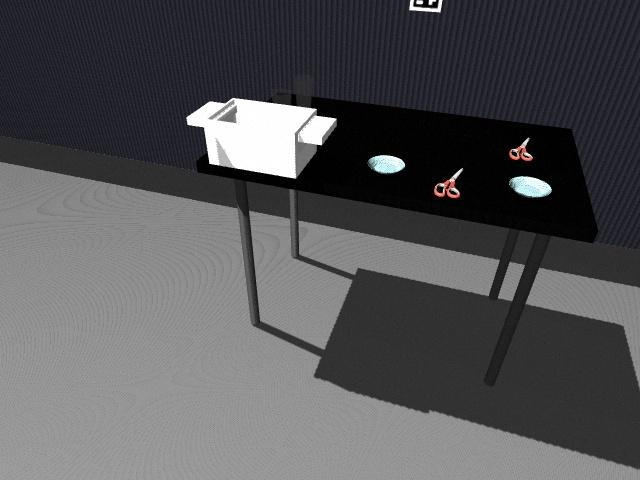cup: (292, 75, 313, 107), (271, 92, 295, 108)
plate: (508, 175, 553, 198), (367, 154, 407, 175)
scissors: (433, 167, 463, 199), (511, 138, 535, 162)
